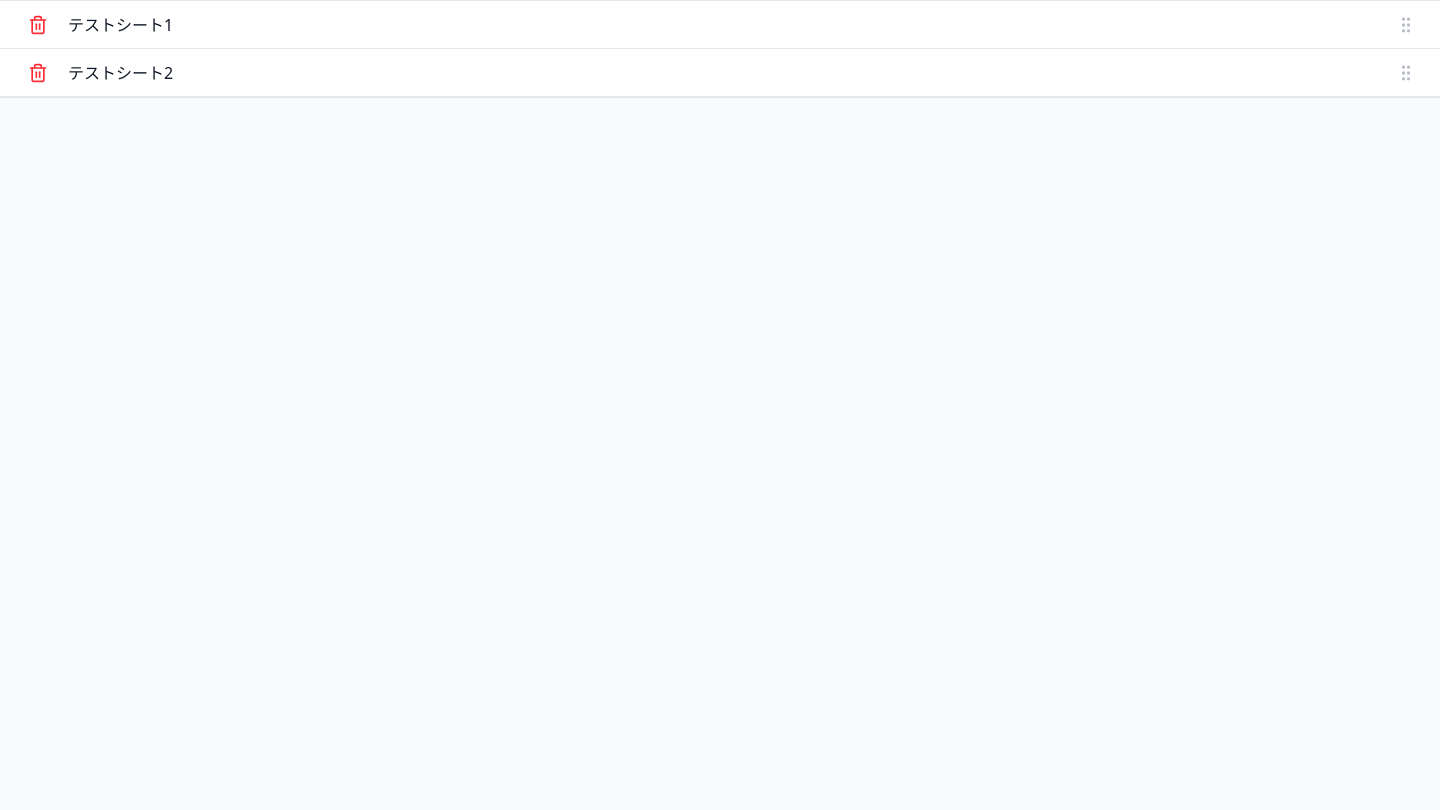
Test case: SheetList › 削除機能 › 削除ボタンクリック時にAlertDialogが表示される
最初のシートの削除ボタンをクリック
Click the 1st button with test id "delete-button": click(38, 24) 16,2 -> 60,46
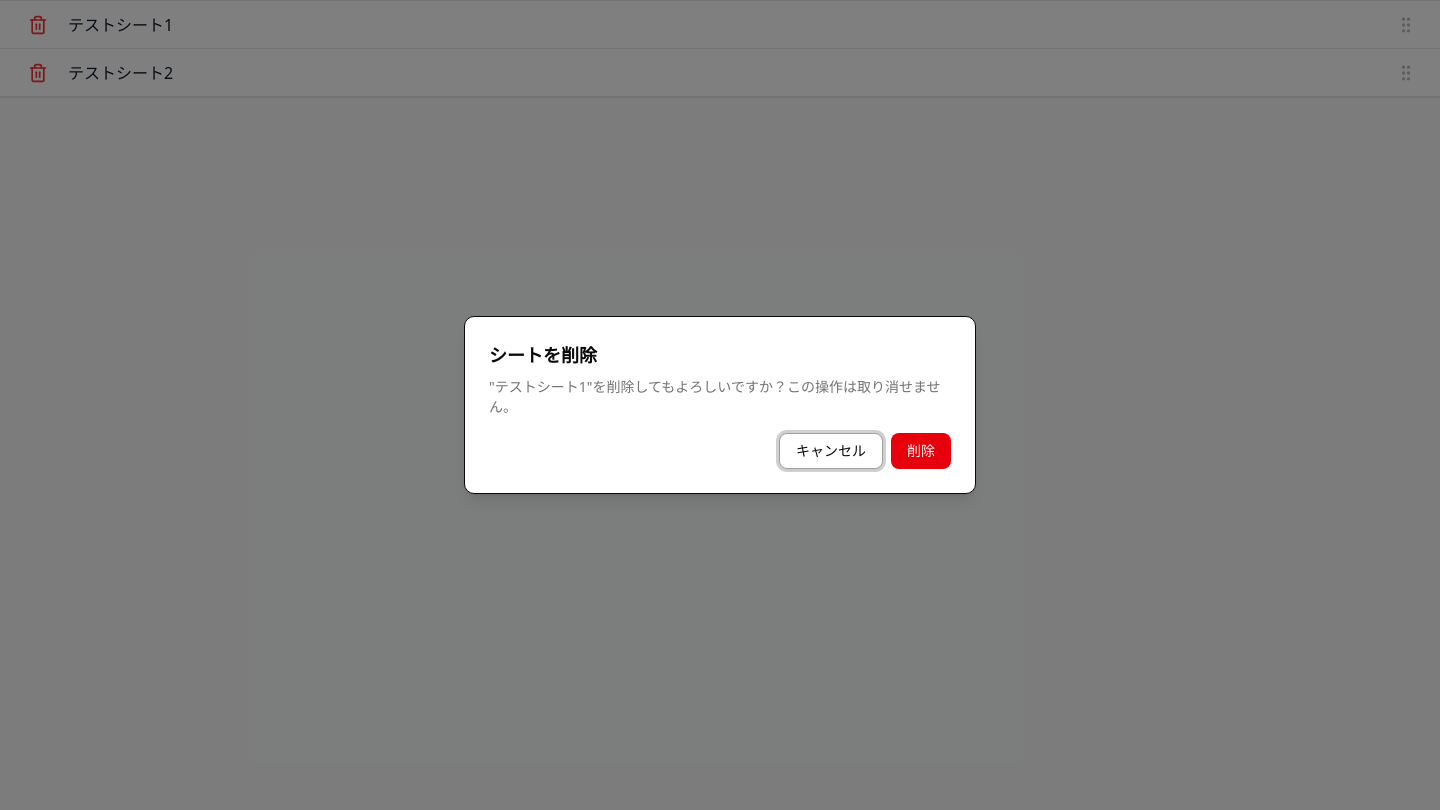
Expected: the dialog is shown, 464,316 -> 976,494
